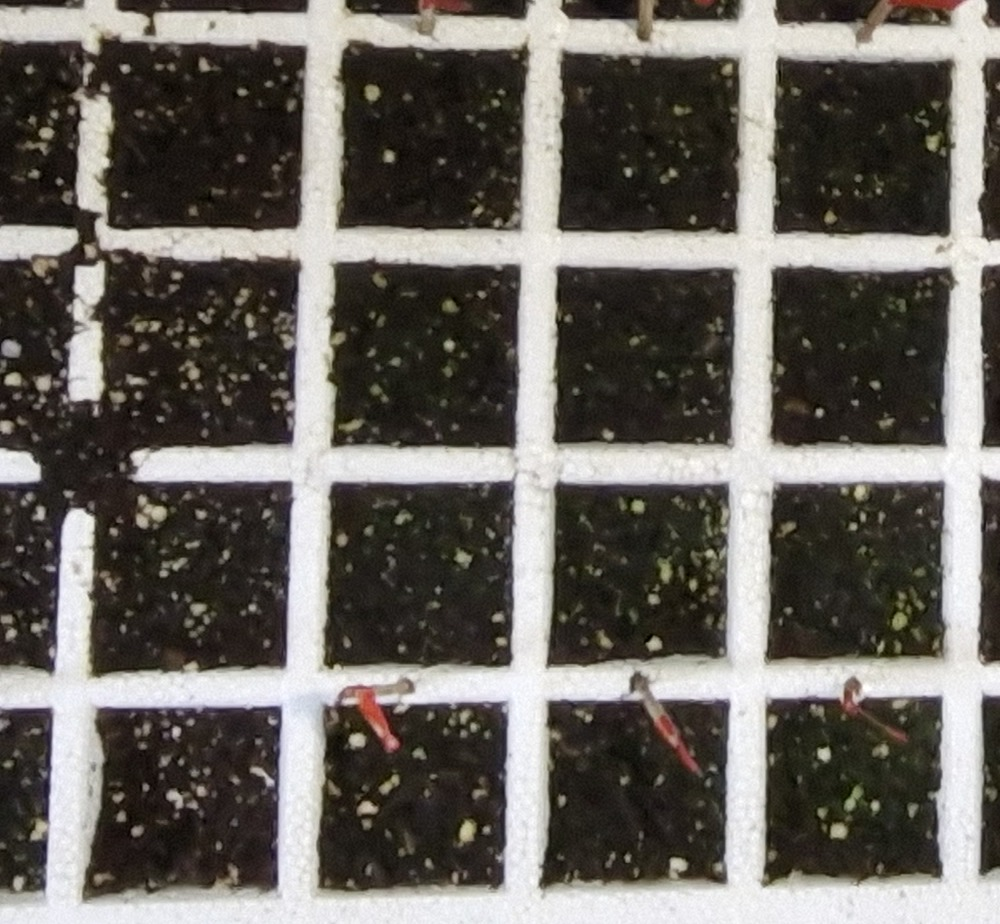Folha: (845, 796, 856, 812), (853, 786, 864, 799)
Germinacao: (843, 784, 865, 814)
